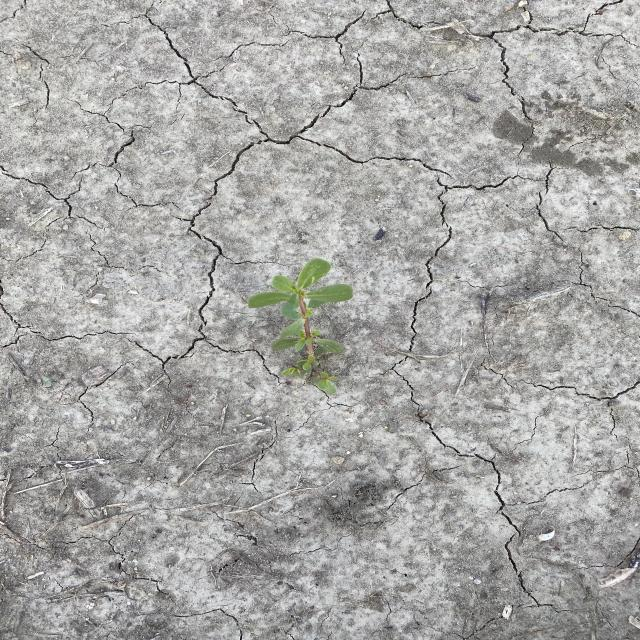Purslane: (244, 256, 356, 396)
